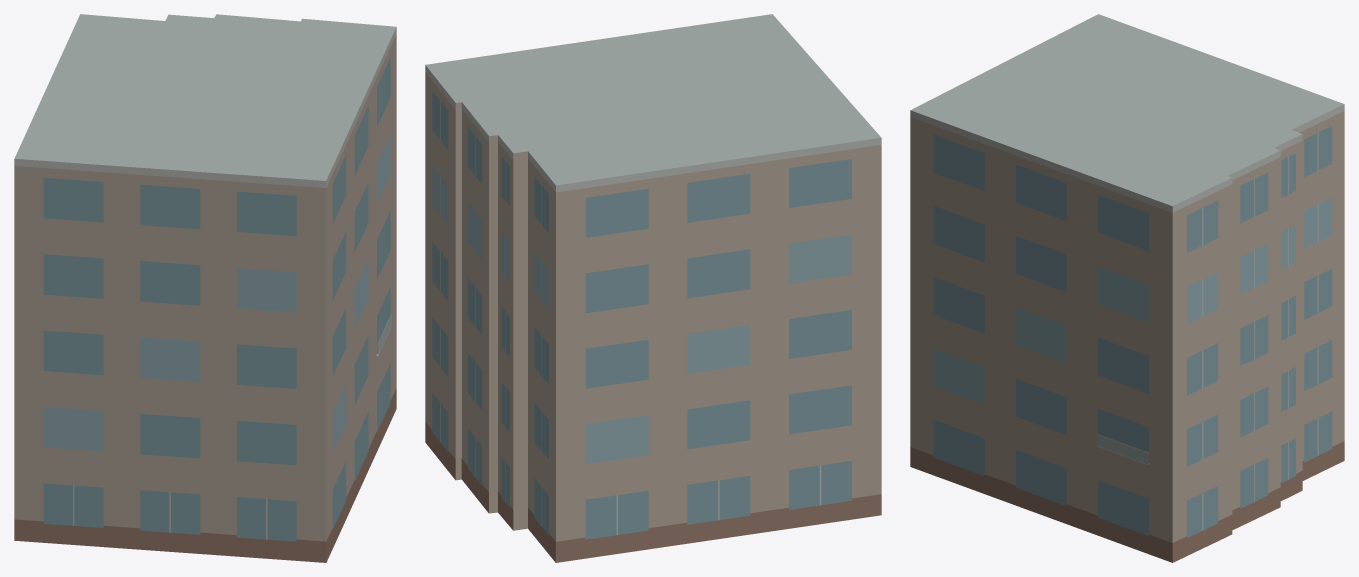
Rendered from survey-upis-32780887.glb.
3 views of the same model, side by side, from view 1: azimuth 30°, elevation 25°; view 2: azimuth 150°, elevation 25°; view 3: azimuth 270°, elevation 25° (orthographic). The views are drawn at different scales.
Parts seen in each view (by area): view 1: survey-upis-32780887.tmp; view 2: survey-upis-32780887.tmp; view 3: survey-upis-32780887.tmp.
Boxes of the visible parts, x1,y1,x2,y2 form: survey-upis-32780887.tmp: (14, 14, 396, 562); survey-upis-32780887.tmp: (425, 14, 881, 562); survey-upis-32780887.tmp: (910, 14, 1344, 562).
Bounding box in the file's own units: 15.27 × 13.2 × 14.58.
